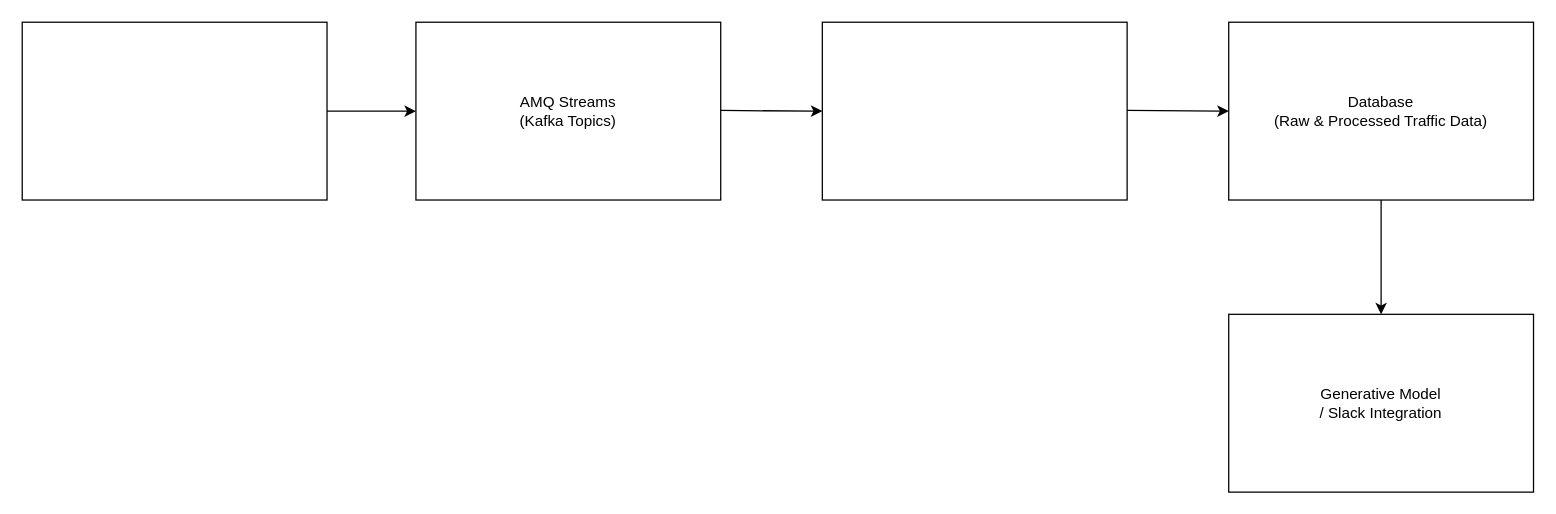
The diagram is 1556 pixels wide and 514 high, and some of its shapes have lost their labels. Here are the shapes that lost their labels. From the top down, the box of each, then its label:
(21, 21, 327, 200): Scanning Tool (Mock Data)
(821, 21, 1127, 200): Predictive Model (Model Service)
